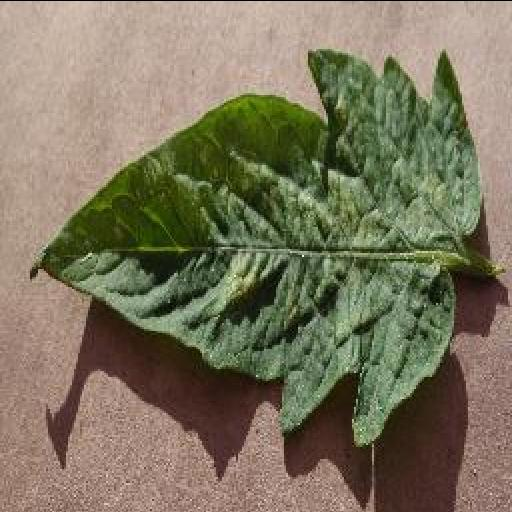disease_tomato: (28, 40, 484, 445)
